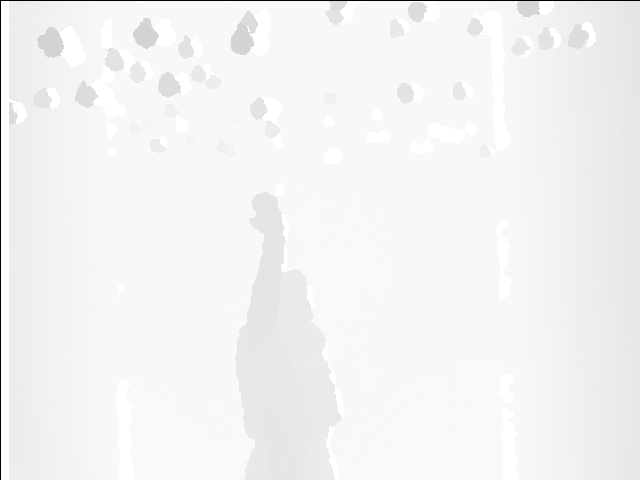hand: (248, 190, 287, 237)
